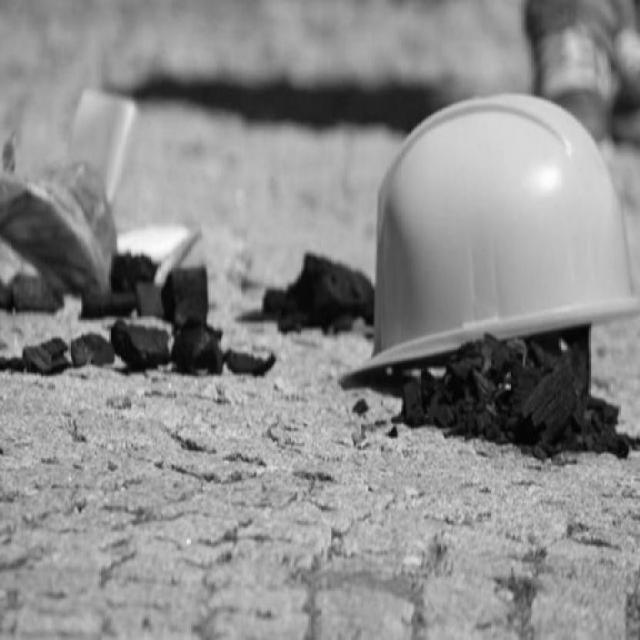safety_helmet: (340, 94, 640, 392)
